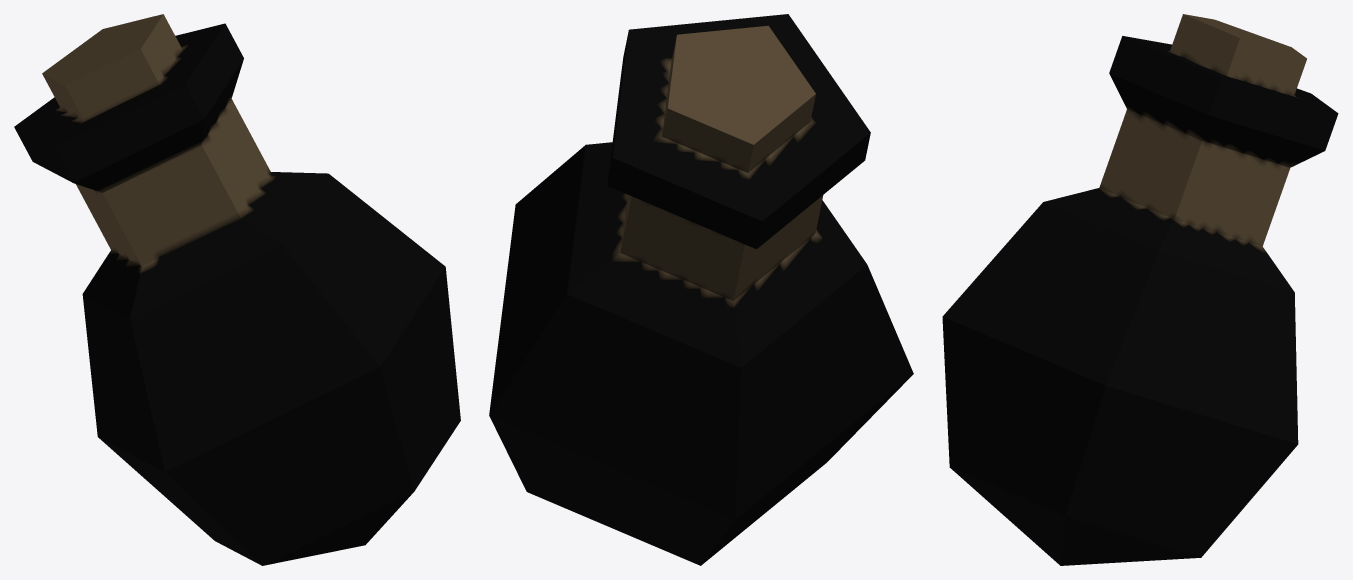
The model's file is potion.fbx.
The picture shows the model from 3 angles, left to right: view 1: azimuth 30°, elevation 25°; view 2: azimuth 150°, elevation 25°; view 3: azimuth 270°, elevation 25°; orthographic projection. The views are drawn at different scales.
Visible parts, largest first — view 1: Potion_Throwable; view 2: Potion_Throwable; view 3: Potion_Throwable.
Boxes of the visible parts, bbox=[...] form: Potion_Throwable: bbox=[14, 14, 460, 565]; Potion_Throwable: bbox=[489, 14, 913, 565]; Potion_Throwable: bbox=[942, 14, 1338, 565].
Bounding box in the file's own units: 10.62 × 14.46 × 10.6.
